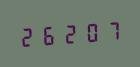seven: (102, 17, 122, 43)
six: (39, 22, 59, 47)
two: (18, 23, 38, 49), (60, 20, 80, 46)
zero: (81, 19, 101, 44)
